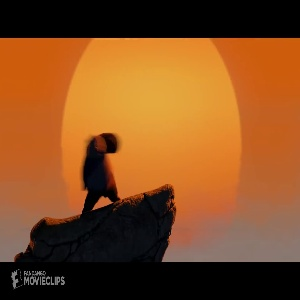po: (79, 132, 126, 215)
